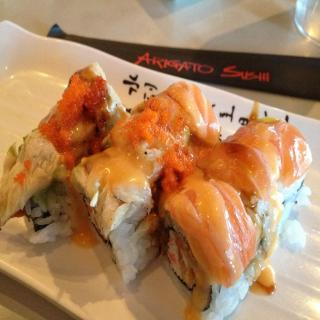Sushi: (70, 80, 220, 281), (164, 118, 311, 319), (0, 64, 132, 246)
